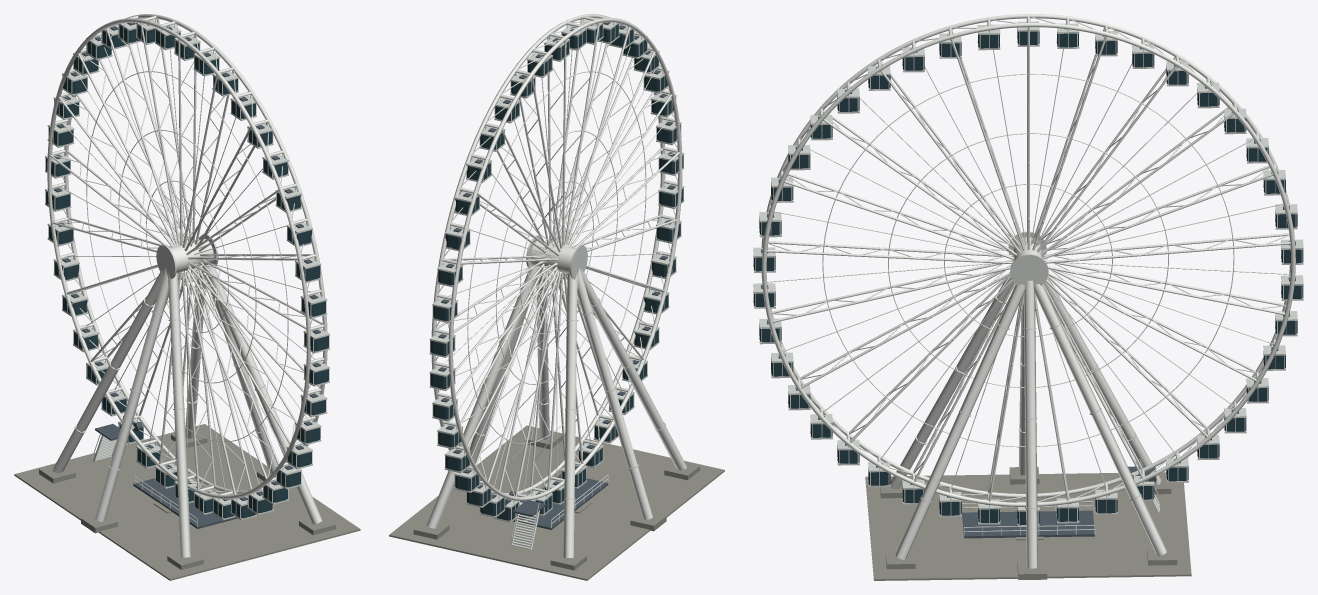
Rendered from grande-roue-montreal-near.glb.
3 views of the same model, side by side, from view 1: azimuth 30°, elevation 25°; view 2: azimuth 150°, elevation 25°; view 3: azimuth 270°, elevation 25° (orthographic). The views are drawn at different scales.
Visible parts, largest first — view 1: grande-roue-montreal-0-lattice, grande-roue-montreal-0-concrete, grande-roue-montreal-0-glass, grande-roue-montreal-0-roof, grande-roue-montreal-0-iron; view 2: grande-roue-montreal-0-lattice, grande-roue-montreal-0-concrete, grande-roue-montreal-0-glass, grande-roue-montreal-0-roof, grande-roue-montreal-0-iron; view 3: grande-roue-montreal-0-lattice, grande-roue-montreal-0-concrete, grande-roue-montreal-0-glass, grande-roue-montreal-0-roof, grande-roue-montreal-0-iron.
Part boxes in pixels (x1,y1,x2,y2): grande-roue-montreal-0-lattice: (45, 14, 329, 557); grande-roue-montreal-0-concrete: (14, 424, 360, 580); grande-roue-montreal-0-glass: (46, 25, 328, 518); grande-roue-montreal-0-roof: (45, 19, 329, 520); grande-roue-montreal-0-iron: (54, 22, 320, 528); grande-roue-montreal-0-lattice: (426, 14, 686, 558); grande-roue-montreal-0-concrete: (389, 425, 724, 580); grande-roue-montreal-0-glass: (430, 24, 683, 520); grande-roue-montreal-0-roof: (429, 19, 684, 549); grande-roue-montreal-0-iron: (438, 22, 675, 529); grande-roue-montreal-0-lattice: (755, 14, 1302, 568); grande-roue-montreal-0-concrete: (865, 466, 1191, 580); grande-roue-montreal-0-glass: (753, 28, 1303, 525); grande-roue-montreal-0-roof: (753, 21, 1303, 526); grande-roue-montreal-0-iron: (761, 29, 1295, 538).
Size of the model in its own units: 27.19 by 60.06 by 58.87.
